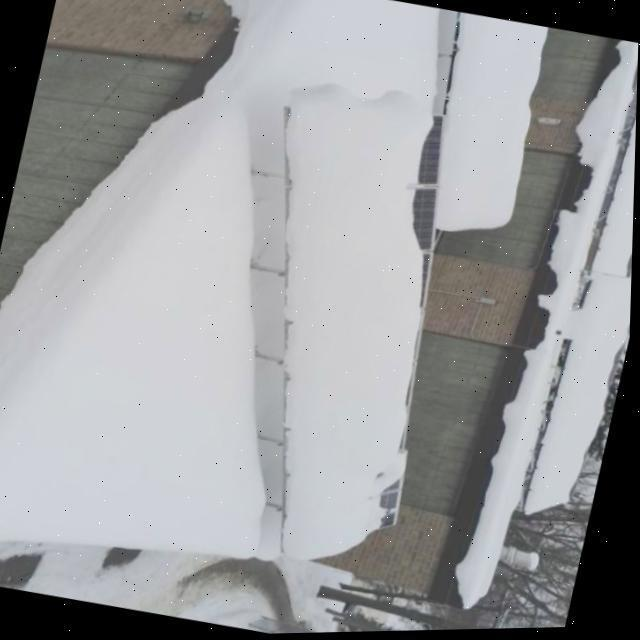Anomaly Solar Panel: (285, 109, 445, 555), (528, 277, 633, 520), (438, 14, 546, 231), (596, 127, 637, 282)
Snow: (285, 110, 446, 556), (528, 278, 633, 517), (438, 14, 546, 232), (595, 126, 637, 281)
